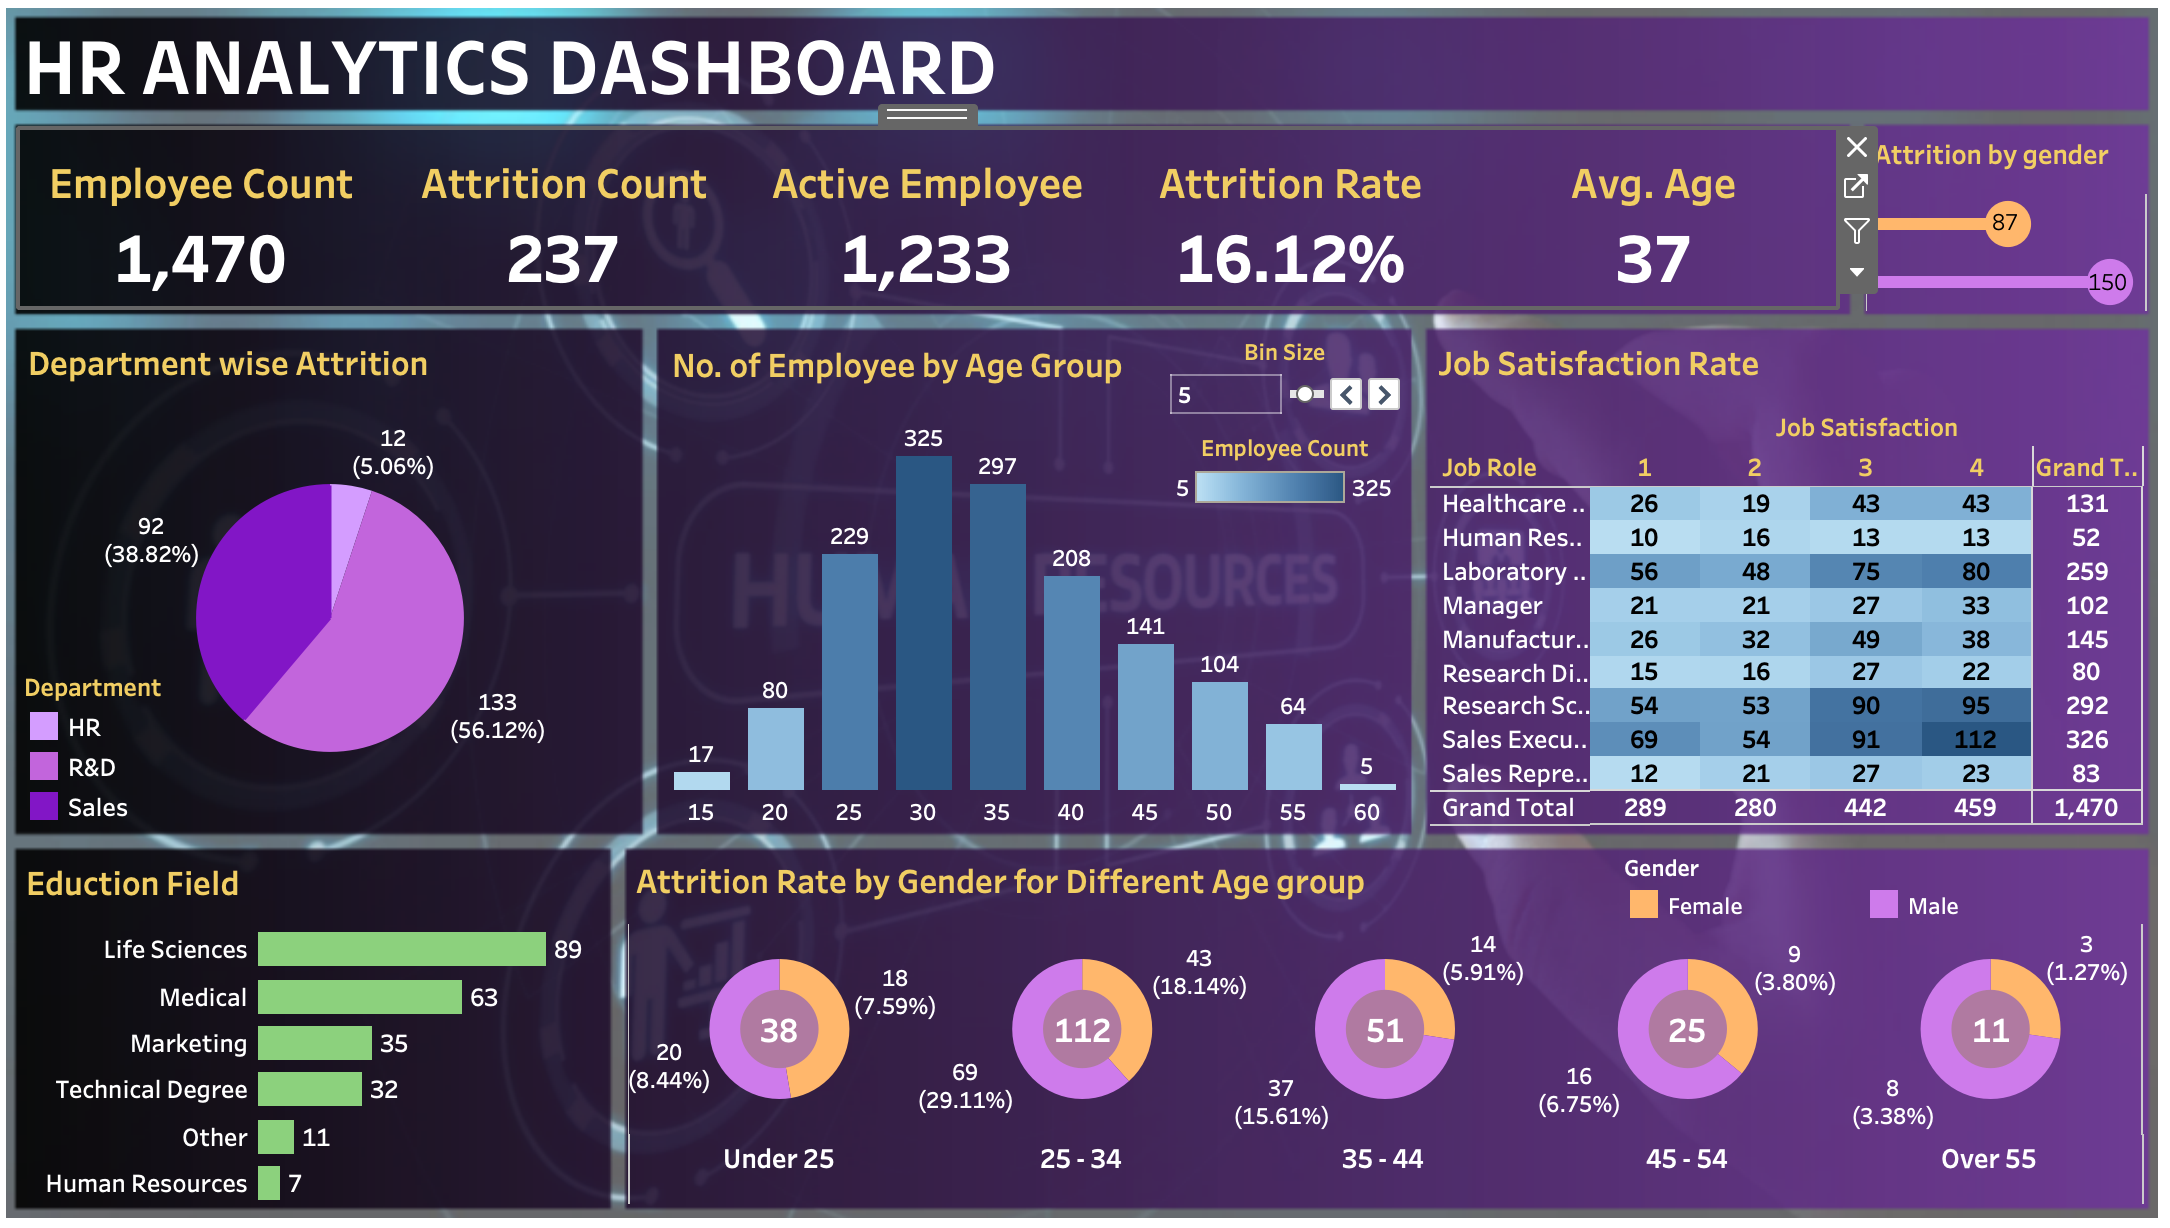

The page's visual inventory and layout, read from the dashboard file:
{"tool":"tableau","page":{"name":"HR Analystics Dashboard","canvas":[1100,650],"ordinal":0},"visuals":[{"type":"image","param":"Image/HR background.pptx.png","box":[8,8,1084,634]},{"type":"text","box":[18,28,806,44]},{"type":"worksheet","title":"Sheet 2","mark":"Automatic","rows":["Gender"],"cols":["Calculation_3196537523576832","Calculation_3196537523576832"],"box":[942,82,141,92]},{"type":"worksheet","title":"Sheet 1","mark":"Automatic","box":[19,83,908,88]},{"type":"worksheet","title":"Sheet 3","mark":"Pie","box":[19,184,310,249]},{"type":"worksheet","title":"Sheet 5","mark":"Square","rows":["Job Role"],"cols":["Job Satisfaction"],"box":[724,184,357,247]},{"type":"worksheet","title":"No. of employee the Age group","mark":"Automatic","rows":["Employee Count"],"cols":["Age (bin)"],"box":[341,185,371,248]},{"type":"parameter","param":"[Parameters].[Parameter 3196537834455044]","box":[591,186,121,46]},{"type":"legend","title":"No. of employee the Age group","param":"[federated.0hbk61e0edh2vq1f4mmrc122wpr4].[sum:Employee Count:qk]","box":[593,234,117,39]},{"type":"legend","title":"Sheet 3","param":"[federated.0hbk61e0edh2vq1f4mmrc122wpr4].[none:Department:nk]","box":[21,353,72,78]},{"type":"worksheet","title":"Sheet 7","mark":"Pie","rows":["Calculation_3196537853116422","Calculation_3196537853116422"],"cols":["CF_age band"],"box":[323,443,758,178]},{"type":"worksheet","title":"Sheet 6","mark":"Automatic","rows":["Education Field"],"cols":["Calculation_3196537523576832"],"box":[18,444,295,177]},{"type":"legend","title":"Sheet 7","param":"[federated.0hbk61e0edh2vq1f4mmrc122wpr4].[none:Gender:nk]","box":[821,444,261,39]}]}

Visuals, with their boxes in screenshot pixels (x1, y1, x2, y2):
image: [x1=0, y1=0, x2=2161, y2=1227]
text: [x1=13, y1=11, x2=1625, y2=99]
"Sheet 2" worksheet: [x1=1861, y1=119, x2=2143, y2=303]
"Sheet 1" worksheet: [x1=15, y1=121, x2=1831, y2=297]
"Sheet 3" worksheet (Pie marks): [x1=15, y1=323, x2=635, y2=821]
"Sheet 5" worksheet (Square marks): [x1=1425, y1=323, x2=2139, y2=817]
"No. of employee the Age group" worksheet: [x1=659, y1=325, x2=1401, y2=821]
parameter: [x1=1159, y1=327, x2=1401, y2=419]
"No. of employee the Age group" legend: [x1=1163, y1=423, x2=1397, y2=501]
"Sheet 3" legend: [x1=19, y1=661, x2=163, y2=817]
"Sheet 7" worksheet (Pie marks): [x1=623, y1=841, x2=2139, y2=1197]
"Sheet 6" worksheet: [x1=13, y1=843, x2=603, y2=1197]
"Sheet 7" legend: [x1=1619, y1=843, x2=2141, y2=921]
